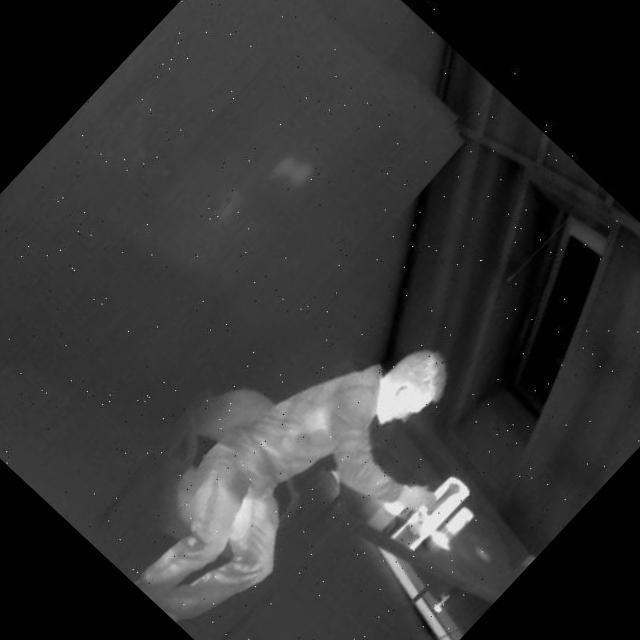person: (104, 275, 516, 640)
